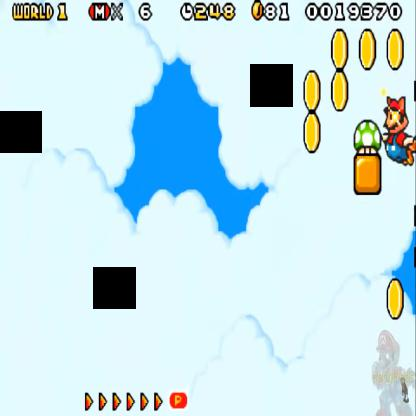Mario: (382, 93, 416, 171)
hongo: (350, 118, 381, 156)
moneda: (386, 27, 407, 71), (300, 112, 322, 152), (358, 30, 376, 74), (387, 275, 405, 314), (332, 26, 347, 72), (330, 76, 348, 114), (306, 74, 320, 110), (250, 0, 264, 22)
